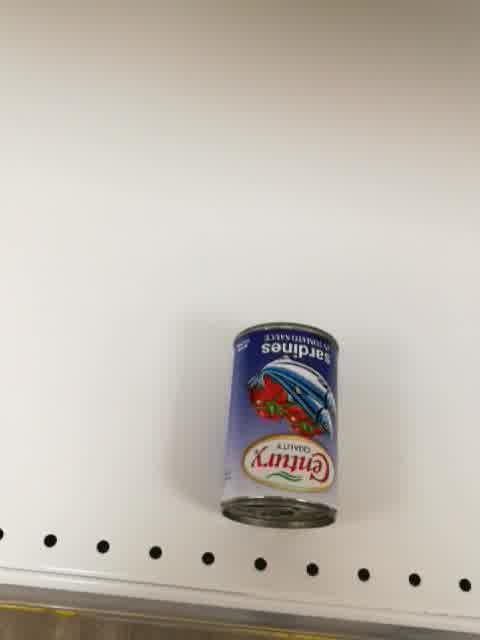sardine: (219, 322, 341, 532)
